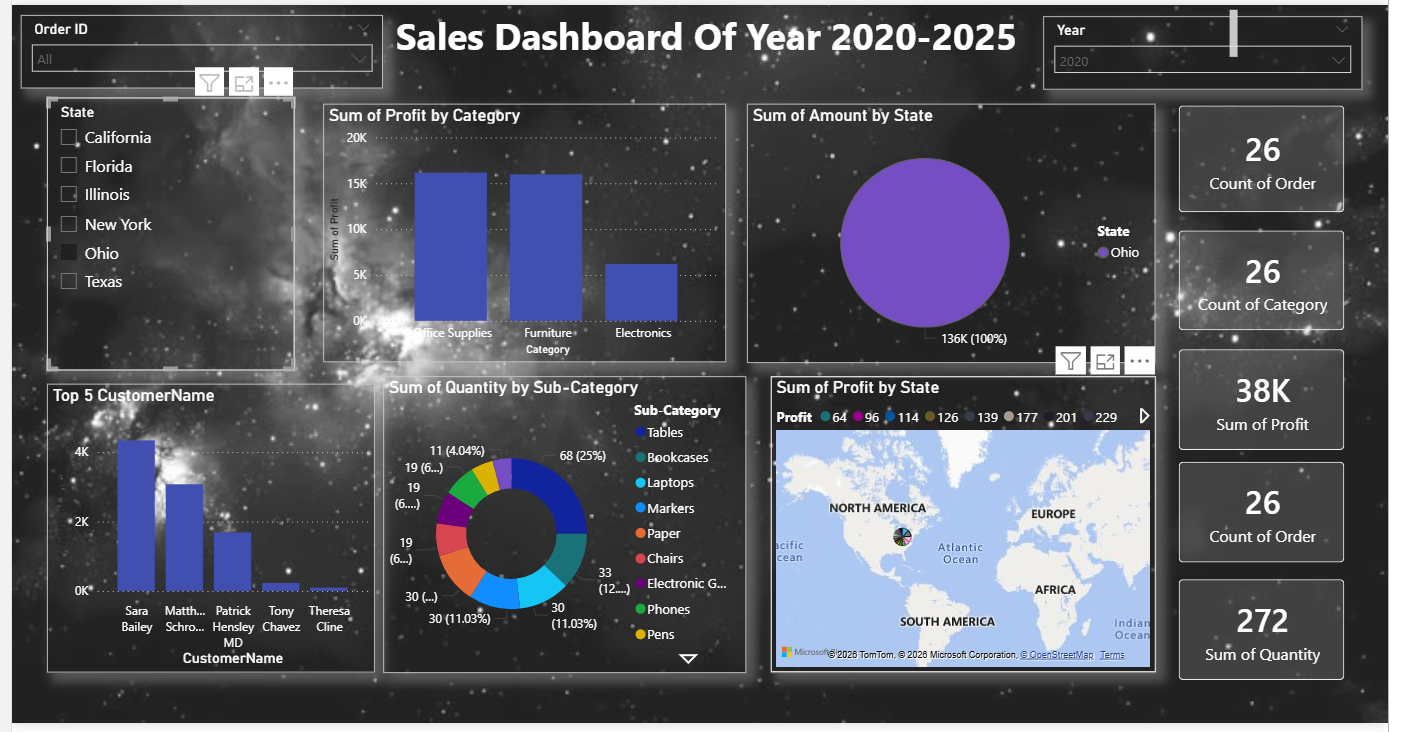

What the dashboard file says about the page in this screenshot:
{"tool":"powerbi","page":{"name":"Page 1","canvas":[1380,720],"ordinal":0},"visuals":[{"type":"textbox","box":[166.5,0,1067.7,66.4],"z":0},{"type":"cardVisual","fields":{"Data":["Sum(Sales Dataset.Profit)"]},"box":[1153.3,328.5,200.6,135.4],"z":1000},{"type":"cardVisual","fields":{"Data":["CountNonNull(Sales Dataset.Order ID)"]},"box":[1153.3,84,200.6,141.7],"z":2000},{"type":"cardVisual","fields":{"Data":["CountNonNull(Sales Dataset.Category)"]},"box":[1153.3,209.4,200.6,134.1],"z":3000},{"type":"cardVisual","fields":{"Data":["CountNonNull(Sales Dataset.Order ID)"]},"box":[1153.3,441.3,200.6,135.4],"z":4000},{"type":"cardVisual","fields":{"Data":["Sum(Sales Dataset.Quantity)"]},"box":[1153.3,559.1,200.6,135.4],"z":5000},{"type":"columnChart","fields":{"Y":["Sum(Sales Dataset.Profit)"],"Category":["Sales Dataset.Category"]},"box":[312.2,99.1,403.9,258.9],"z":6000},{"type":"pieChart","fields":{"Category":["Sales Dataset.State"],"Y":["Sum(Sales Dataset.Amount)"]},"box":[736.8,99.1,409.8,260.4],"z":7000},{"type":"map","title":"Sum of Profit by State","fields":{"Size":["Sum(Sales Dataset.Profit)"],"Category":["Sales Dataset.State"],"Series":["Sales Dataset.Profit"]},"box":[761,372.3,386.1,297.1],"z":8000},{"type":"donutChart","fields":{"Category":["Sales Dataset.Sub-Category"],"Y":["Sum(Sales Dataset.Quantity)"]},"box":[372.8,372.8,363.9,297.4],"z":9000},{"type":"slicer","fields":{"Values":["Sales Dataset.Year-Month.Variation.Date Hierarchy.Year"]},"box":[1034.3,11.3,319.7,74],"z":10000},{"type":"slicer","fields":{"Values":["Sales Dataset.State"]},"box":[35.1,92.8,248.2,273.3],"z":11000},{"type":"slicer","fields":{"Values":["Sales Dataset.Order ID"]},"box":[8.8,10,363.6,74],"z":12000},{"type":"columnChart","title":"Top 5 CustomerName","fields":{"Y":["Sum(Sales Dataset.Profit)"],"Category":["Sales Dataset.CustomerName"]},"box":[35.5,380.2,328.4,290],"z":13001}]}

Visuals, with their boxes in screenshot pixels (x1, y1, x2, y2), scaled from the page's 1380x720 canvas onto the 1401x732 screenshot:
textbox: region(169, 0, 1253, 68)
cardVisual - Sum(Sales Dataset.Profit): region(1171, 334, 1375, 472)
cardVisual - CountNonNull(Sales Dataset.Order ID): region(1171, 85, 1375, 229)
cardVisual - CountNonNull(Sales Dataset.Category): region(1171, 213, 1375, 349)
cardVisual - CountNonNull(Sales Dataset.Order ID): region(1171, 449, 1375, 586)
cardVisual - Sum(Sales Dataset.Quantity): region(1171, 568, 1375, 706)
columnChart - Sum(Sales Dataset.Profit) x Sales Dataset.Category: region(317, 101, 727, 364)
pieChart - Sales Dataset.State x Sum(Sales Dataset.Amount): region(748, 101, 1164, 365)
"Sum of Profit by State" map: region(773, 379, 1165, 681)
donutChart - Sales Dataset.Sub-Category x Sum(Sales Dataset.Quantity): region(378, 379, 748, 681)
slicer - Sales Dataset.Year-Month.Variation.Date Hierarchy.Year: region(1050, 11, 1375, 87)
slicer - Sales Dataset.State: region(36, 94, 288, 372)
slicer - Sales Dataset.Order ID: region(9, 10, 378, 85)
"Top 5 CustomerName" columnChart: region(36, 387, 369, 681)
